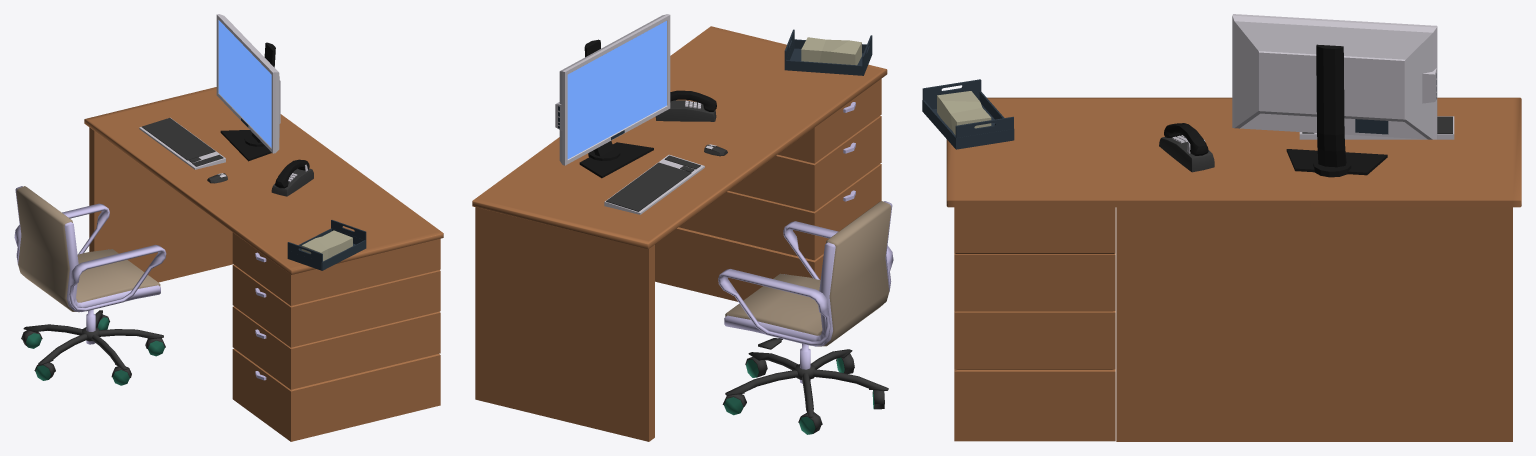
File: desk.gltf
3 views of the same model, side by side, from view 1: azimuth 30°, elevation 25°; view 2: azimuth 150°, elevation 25°; view 3: azimuth 270°, elevation 25° (orthographic). The views are drawn at different scales.
Parts seen in each view (by area): view 1: Desk.010, Cube.022, OfficeChair_Modern, Monitor_01, Keyboard, curve3.006, paper, l_b_low.002; view 2: Desk.010, Cube.022, OfficeChair_Modern, Monitor_01, Keyboard, curve3.006, paper, l_d_low.002; view 3: Desk.010, Cube.022, Monitor_01, curve3.006, paper, Keyboard, u_a_low.002, l_a_low.002, u_c_low.002.
Boxes of the visible parts, <box> form: Desk.010: <box>84,87,443,282</box>; Cube.022: <box>232,232,440,441</box>; OfficeChair_Modern: <box>14,186,166,385</box>; Monitor_01: <box>216,14,280,161</box>; Keyboard: <box>139,117,225,169</box>; curve3.006: <box>271,159,313,196</box>; paper: <box>301,230,352,261</box>; l_b_low.002: <box>321,240,366,270</box>; Desk.010: <box>472,26,887,441</box>; Cube.022: <box>655,79,881,301</box>; OfficeChair_Modern: <box>718,201,893,434</box>; Monitor_01: <box>555,14,670,178</box>; Keyboard: <box>604,154,704,214</box>; curve3.006: <box>655,90,716,121</box>; paper: <box>801,37,861,65</box>; l_d_low.002: <box>784,60,863,75</box>; Desk.010: <box>946,97,1521,441</box>; Cube.022: <box>954,207,1115,441</box>; Monitor_01: <box>1232,14,1437,177</box>; curve3.006: <box>1159,123,1214,172</box>; paper: <box>937,91,991,135</box>; Keyboard: <box>1299,116,1454,139</box>; u_a_low.002: <box>955,116,1013,137</box>; l_a_low.002: <box>957,129,1012,149</box>; u_c_low.002: <box>922,79,981,100</box>.
Size of the model in its own units: 1.21 by 1.14 by 1.62.
